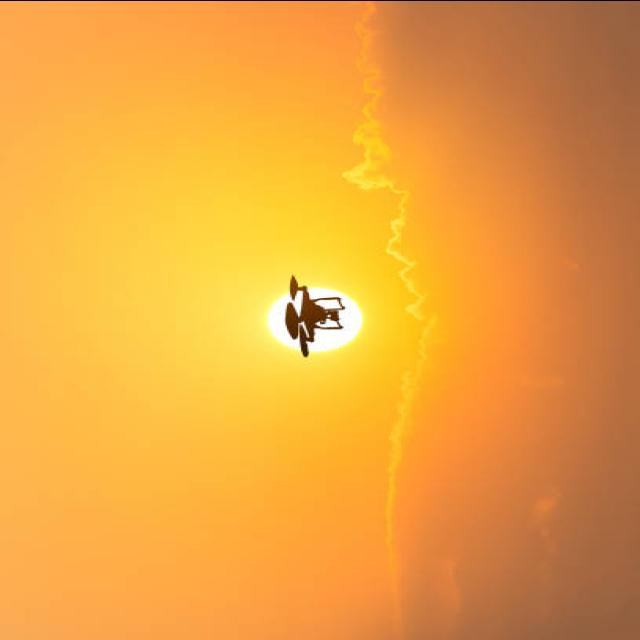drone: (282, 274, 344, 356)
